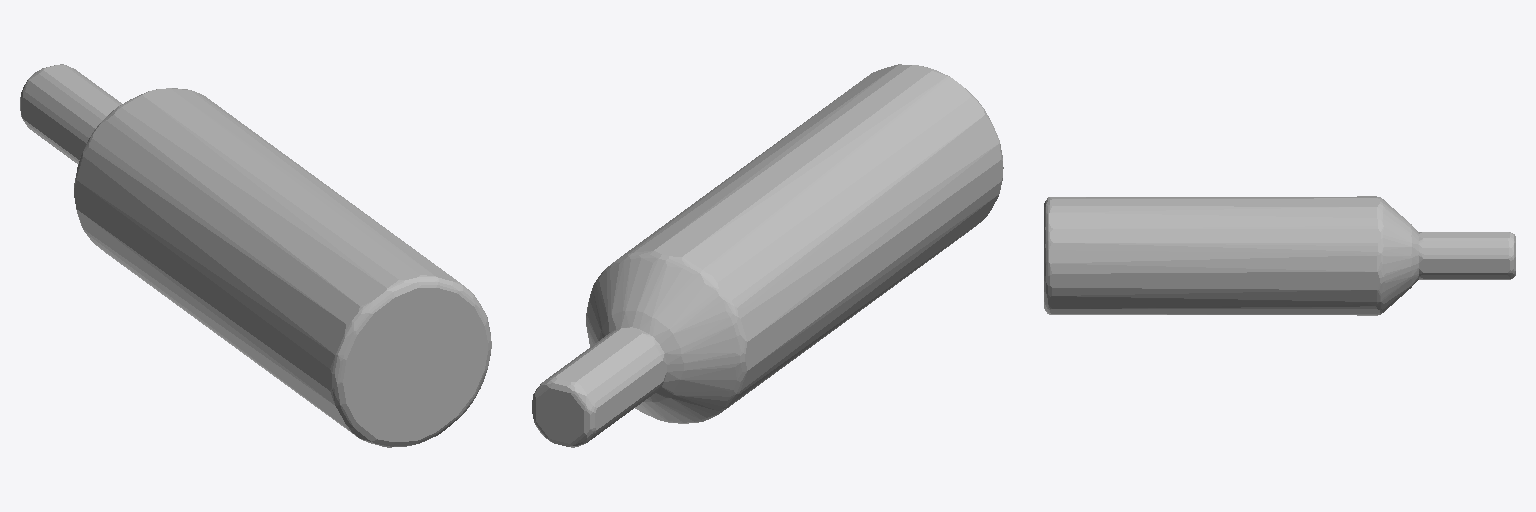
robot.urdf — root:
<?xml version="1.0"?>
<robot name="root">
  <link name="base_link">
    <visual>
      <origin xyz="0 0 0" rpy="0 0 0" />
      <geometry>
        <mesh filename="../meshes/unidex_core_bottle-3c6d6ff143483efaebb19cf38af396e6_010.obj" scale="1.0000E+00 1.0000E+00 1.0000E+00" />
      </geometry>
      <material name="">
        <color rgba="7.50E-01 7.50E-01 7.50E-01 1" />
      </material>
    </visual>
    <collision>
      <origin xyz="0 0 0" rpy="0 0 0" />
      <geometry>
        <mesh filename="../meshes/unidex_core_bottle-3c6d6ff143483efaebb19cf38af396e6_010.obj" scale="1.0000E+00 1.0000E+00 1.0000E+00" />
      </geometry>
    </collision>
  </link>
</robot>

--- Render facts (derived) ---
3 views of the same robot in one strip: view 1: azimuth 30°, elevation 25°; view 2: azimuth 150°, elevation 25°; view 3: azimuth 270°, elevation 25° (orthographic).
Robot: root — 1 links, 0 joints (none); root link base_link; default pose: every joint at zero.
Links seen in each view (by area): view 1: base_link; view 2: base_link; view 3: base_link.
Link boxes in pixels (left/top/right/bottom): base_link: left=20, top=64, right=491, bottom=447; base_link: left=532, top=64, right=1003, bottom=447; base_link: left=1044, top=196, right=1515, bottom=315.
Size in the robot's own frame: 0.0478 by 0.1911 by 0.0478 metres.
Meshes: 1 distinct files referenced, 1 mesh visuals loaded (1 OBJ).
